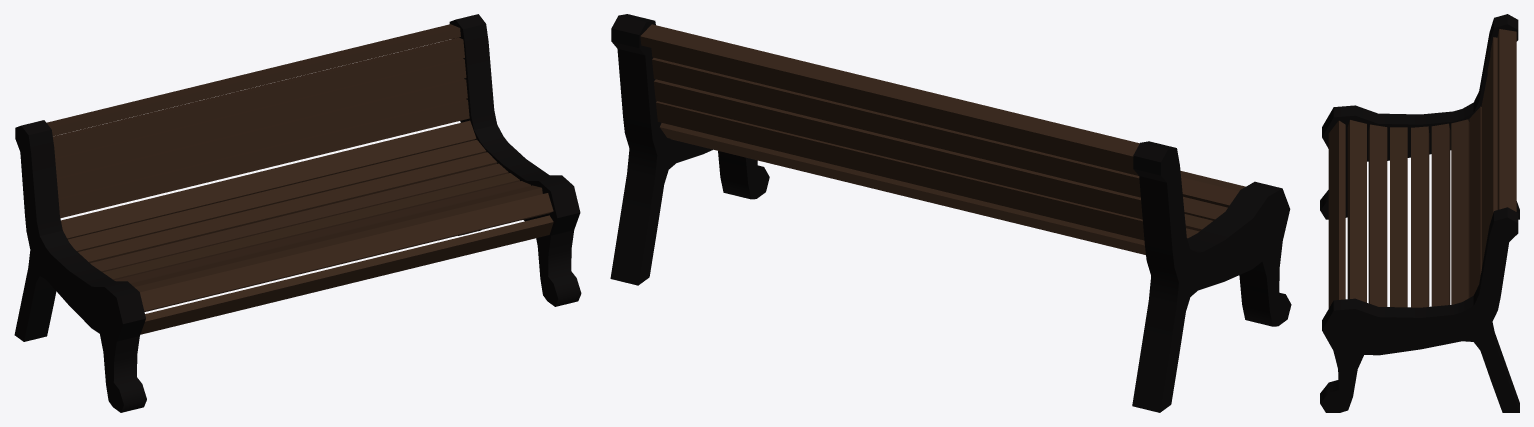
The model's file is Skameyka.FBX.
The picture shows the model from 3 angles, left to right: view 1: azimuth 30°, elevation 25°; view 2: azimuth 150°, elevation 25°; view 3: azimuth 270°, elevation 25°; orthographic projection. The views are drawn at different scales.
Visible parts, largest first — view 1: Skameyka_02; view 2: Skameyka_02; view 3: Skameyka_02.
Boxes of the visible parts, box(x1,y1,x2,y2) form: Skameyka_02: box(14, 14, 581, 412); Skameyka_02: box(610, 14, 1291, 412); Skameyka_02: box(1320, 14, 1519, 412).
Bounding box in the file's own units: 508 × 228 × 211.
